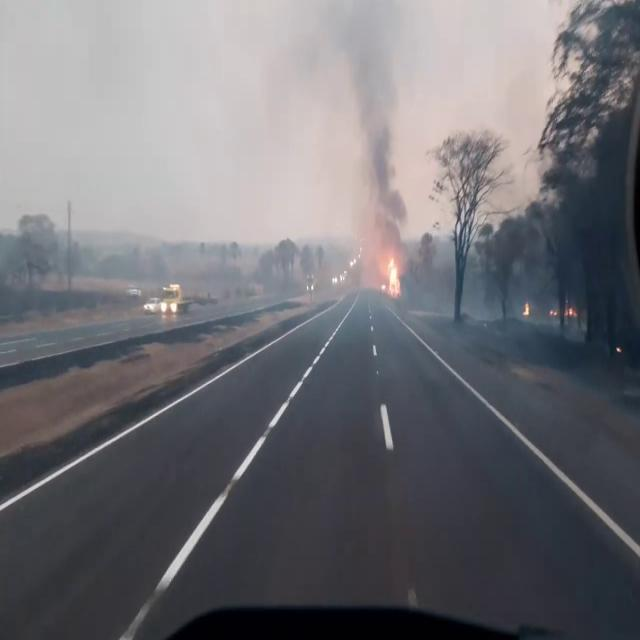Fire: (144, 276, 188, 320), (382, 245, 403, 298)
Smoke: (310, 3, 414, 254)
